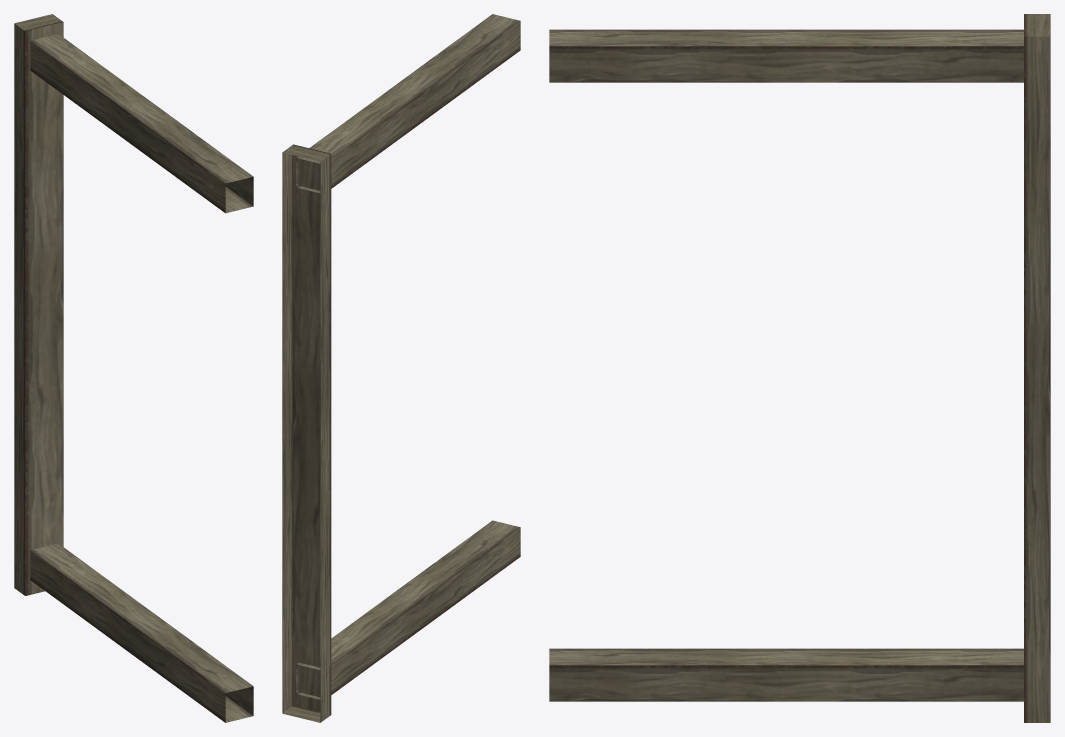
File: Platform_Short_Structure_B.fbx
The picture shows the model from 3 angles, left to right: view 1: azimuth 30°, elevation 25°; view 2: azimuth 150°, elevation 25°; view 3: azimuth 270°, elevation 25°; orthographic projection. The views are drawn at different scales.
Parts seen in each view (by area): view 1: Platform_Short_Structure_B; view 2: Platform_Short_Structure_B; view 3: Platform_Short_Structure_B.
Boxes of the visible parts, x1=… form: Platform_Short_Structure_B: x1=14, y1=14, x2=253, y2=722; Platform_Short_Structure_B: x1=282, y1=14, x2=520, y2=722; Platform_Short_Structure_B: x1=549, y1=14, x2=1050, y2=722.
Bounding box in the file's own units: 0.4005 × 5.64 × 3.74.
